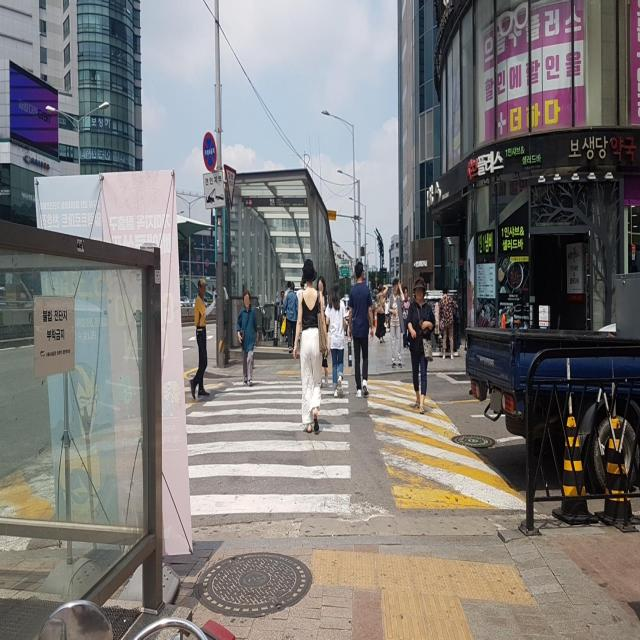횡단보도: (186, 380, 352, 518)
